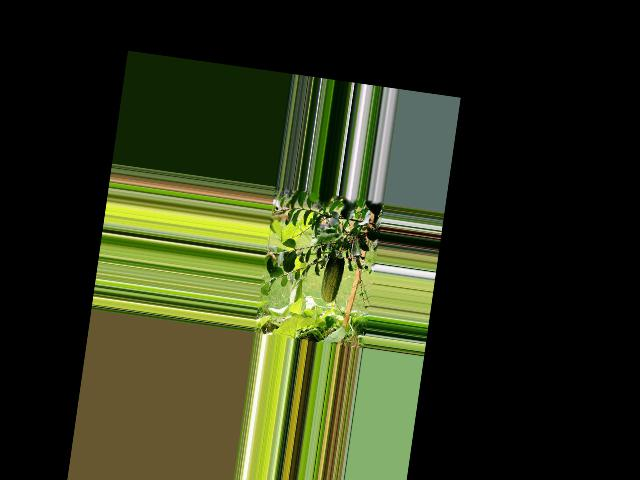cucumber: (320, 249, 347, 304)
